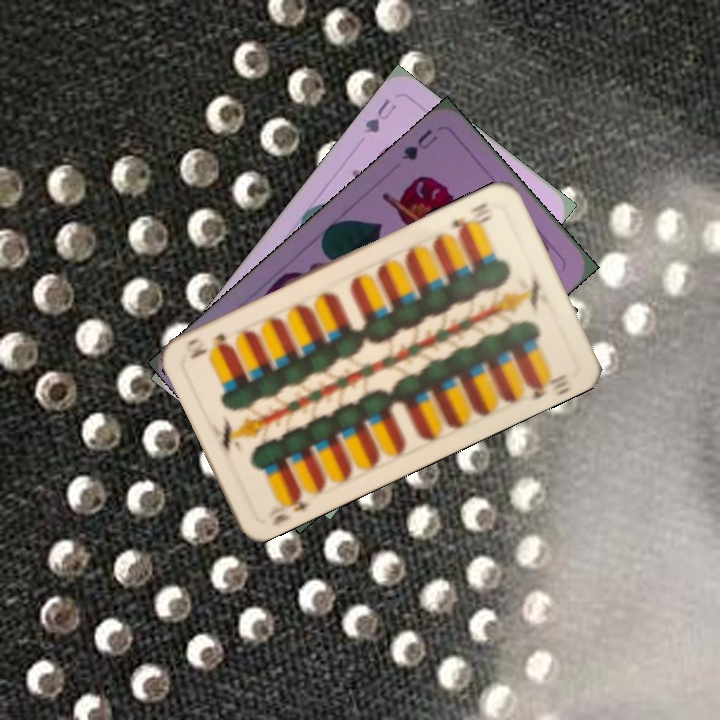E10: (264, 486, 312, 529), (446, 198, 495, 237)
GU: (398, 125, 441, 164), (361, 94, 399, 136)
